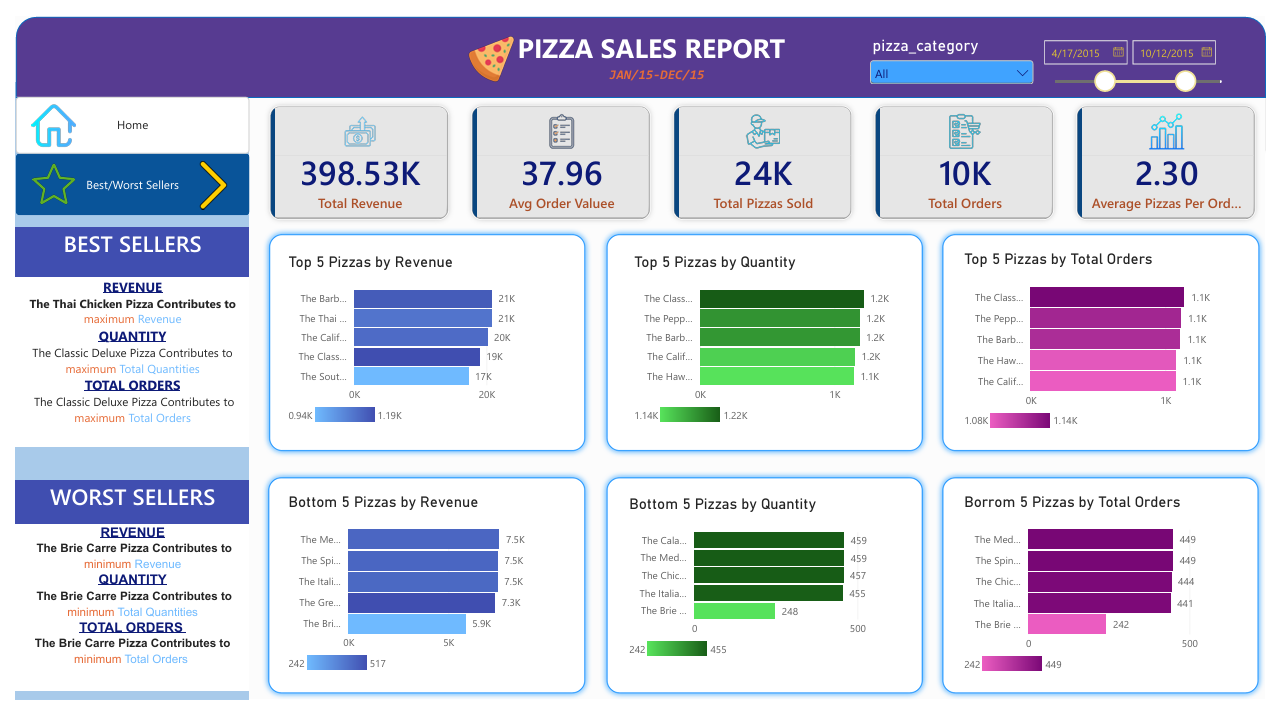

The page's visual inventory and layout, read from the dashboard file:
{"tool":"powerbi","page":{"name":"Best/Worst Sellers","canvas":[1500,820],"ordinal":1},"visuals":[{"type":"shape","box":[0,79.4,279.9,740.9],"z":0},{"type":"cardVisual","fields":{"Data":["pizza_sales.Total Revenue","pizza_sales.Avg Order Valuee","pizza_sales.Total Pizzas Sold","pizza_sales.Total Orders","pizza_sales.Average Pizzas Per Order"]},"box":[295.2,97.5,1204.7,156],"z":1000},{"type":"shape","box":[0,0,1499.9,97],"z":2000},{"type":"textbox","box":[41.8,13.9,1441.4,46],"z":3000},{"type":"textbox","box":[597.5,59.9,344,27.9],"z":4000},{"type":"image","box":[523.6,22.3,93.3,57.1],"z":5000},{"type":"shape","box":[295.7,252.9,395,275.7],"z":6000},{"type":"textbox","box":[0,253.5,279.9,59.9],"z":7000},{"type":"textbox","box":[0,313.4,279.9,203.3],"z":8000},{"type":"textbox","box":[0,557.1,279.9,51.5],"z":9000},{"type":"textbox","box":[0,608.6,279.9,200.5],"z":10000},{"type":"slicer","fields":{"Values":["pizza_sales.pizza_category"]},"box":[1020,22.9,205.7,57.1],"z":11000},{"type":"slicer","fields":{"Values":["pizza_sales.order_date"]},"box":[1225.7,22.9,237.1,74.3],"z":12000},{"type":"shape","box":[700.5,253.5,395,275.7],"z":13000},{"type":"shape","box":[1104.4,253.5,395.7,275.7],"z":14000},{"type":"shape","box":[295.2,544.5,395.5,275.7],"z":15000},{"type":"shape","box":[700.5,544.5,395,275.7],"z":16000},{"type":"shape","box":[1104.4,544.5,395,275.7],"z":17000},{"type":"barChart","title":"Top 5 Pizzas by Revenue ","fields":{"Category":["pizza_sales.pizza_name"],"Y":["pizza_sales.Total Revenue"]},"box":[310.6,268.8,359.3,240.9],"z":18000},{"type":"barChart","title":"Bottom 5 Pizzas by Revenue ","fields":{"Category":["pizza_sales.pizza_name"],"Y":["pizza_sales.Total Revenue"]},"box":[310.6,557.1,323.1,250.7],"z":19000},{"type":"barChart","title":"Top 5 Pizzas by Quantity","fields":{"Category":["pizza_sales.pizza_name"],"Y":["pizza_sales.Total Pizzas Sold"]},"box":[725.6,268.8,360.7,240.9],"z":20000},{"type":"barChart","title":"Bottom 5 Pizzas by Quantity","fields":{"Category":["pizza_sales.pizza_name"],"Y":["pizza_sales.Total Pizzas Sold"]},"box":[720,559.9,355.1,231.2],"z":21000},{"type":"barChart","title":"Top 5 Pizzas by Total Orders","fields":{"Category":["pizza_sales.pizza_name"],"Y":["pizza_sales.Total Orders"]},"box":[1122.5,266,360.7,250.7],"z":22000},{"type":"barChart","title":"Borrom 5 Pizzas by Total Orders","fields":{"Category":["pizza_sales.pizza_name"],"Y":["pizza_sales.Total Orders"]},"box":[1122.5,557.1,351,252.1],"z":23000},{"type":"pageNavigator","box":[0,164.3,279.9,73.8],"z":24000},{"type":"pageNavigator","box":[0,96.1,279.9,68.2],"z":25000},{"type":"image","box":[1.4,175.5,87.7,50.1],"z":25001},{"type":"image","box":[1.4,104.5,87.7,52.9],"z":25002},{"type":"image","box":[140.7,172.7,192.2,58.5],"z":25003}]}

Visuals, with their boxes in screenshot pixels (x1, y1, x2, y2), scaled from the page's 1500x820 canvas onto the 1276x716 screenshot:
shape: {"left": 0, "top": 69, "right": 238, "bottom": 715}
cardVisual - pizza_sales.Total Revenue x pizza_sales.Avg Order Valuee: {"left": 251, "top": 85, "right": 1275, "bottom": 221}
shape: {"left": 0, "top": 0, "right": 1275, "bottom": 85}
textbox: {"left": 36, "top": 12, "right": 1262, "bottom": 52}
textbox: {"left": 508, "top": 52, "right": 801, "bottom": 77}
image: {"left": 445, "top": 19, "right": 525, "bottom": 69}
shape: {"left": 252, "top": 221, "right": 588, "bottom": 462}
textbox: {"left": 0, "top": 221, "right": 238, "bottom": 274}
textbox: {"left": 0, "top": 274, "right": 238, "bottom": 451}
textbox: {"left": 0, "top": 486, "right": 238, "bottom": 531}
textbox: {"left": 0, "top": 531, "right": 238, "bottom": 706}
slicer - pizza_sales.pizza_category: {"left": 868, "top": 20, "right": 1043, "bottom": 70}
slicer - pizza_sales.order_date: {"left": 1043, "top": 20, "right": 1244, "bottom": 85}
shape: {"left": 596, "top": 221, "right": 932, "bottom": 462}
shape: {"left": 939, "top": 221, "right": 1275, "bottom": 462}
shape: {"left": 251, "top": 475, "right": 588, "bottom": 715}
shape: {"left": 596, "top": 475, "right": 932, "bottom": 715}
shape: {"left": 939, "top": 475, "right": 1275, "bottom": 715}
"Top 5 Pizzas by Revenue " barChart: {"left": 264, "top": 235, "right": 570, "bottom": 445}
"Bottom 5 Pizzas by Revenue " barChart: {"left": 264, "top": 486, "right": 539, "bottom": 705}
"Top 5 Pizzas by Quantity" barChart: {"left": 617, "top": 235, "right": 924, "bottom": 445}
"Bottom 5 Pizzas by Quantity" barChart: {"left": 612, "top": 489, "right": 915, "bottom": 691}
"Top 5 Pizzas by Total Orders" barChart: {"left": 955, "top": 232, "right": 1262, "bottom": 451}
"Borrom 5 Pizzas by Total Orders" barChart: {"left": 955, "top": 486, "right": 1253, "bottom": 707}
pageNavigator: {"left": 0, "top": 143, "right": 238, "bottom": 208}
pageNavigator: {"left": 0, "top": 84, "right": 238, "bottom": 143}
image: {"left": 1, "top": 153, "right": 76, "bottom": 197}
image: {"left": 1, "top": 91, "right": 76, "bottom": 137}
image: {"left": 120, "top": 151, "right": 283, "bottom": 202}
